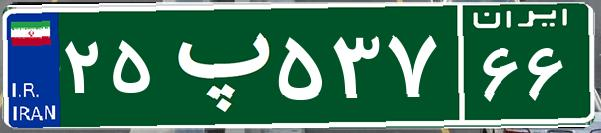2: (57, 26, 110, 107)
3: (330, 28, 385, 110)
5: (273, 28, 330, 110), (110, 28, 158, 105)
6: (475, 38, 525, 113), (525, 38, 570, 115)
7: (385, 28, 445, 110)
پ: (158, 15, 273, 115)
